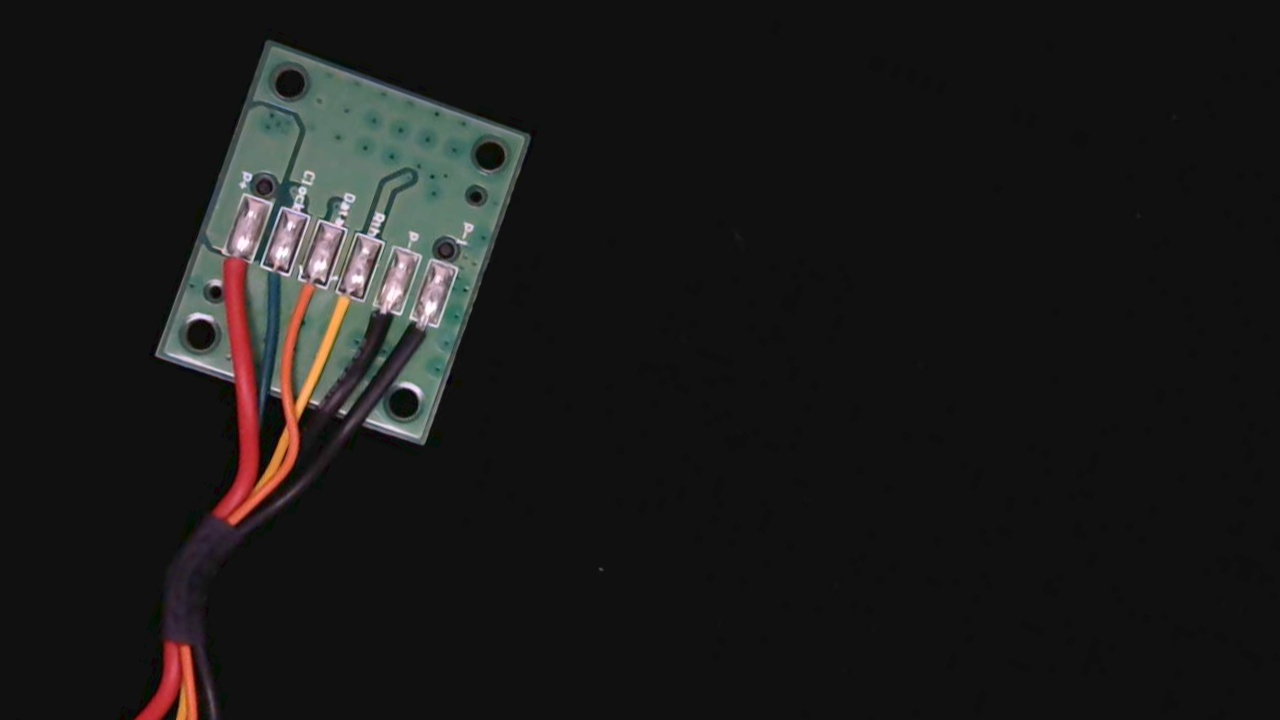Black: (356, 293, 404, 358)
Black1: (393, 305, 441, 370)
Green: (243, 251, 293, 315)
Orange: (282, 266, 328, 331)
Red: (204, 238, 256, 306)
Yellow: (316, 279, 367, 348)
